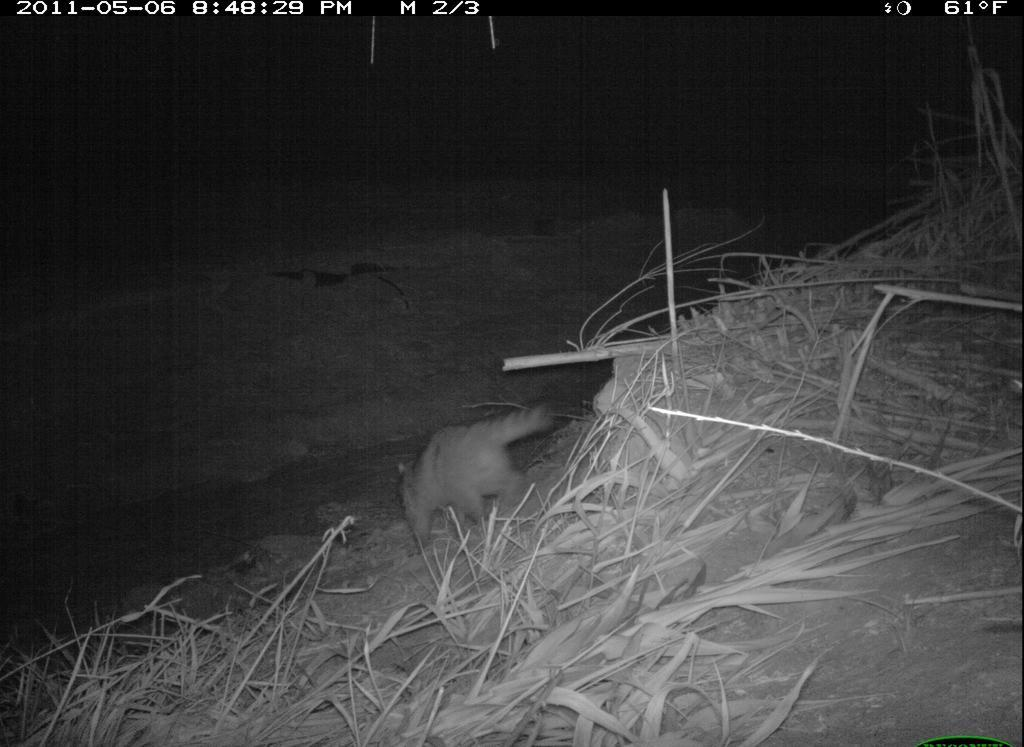raccoon: (390, 396, 565, 557)
